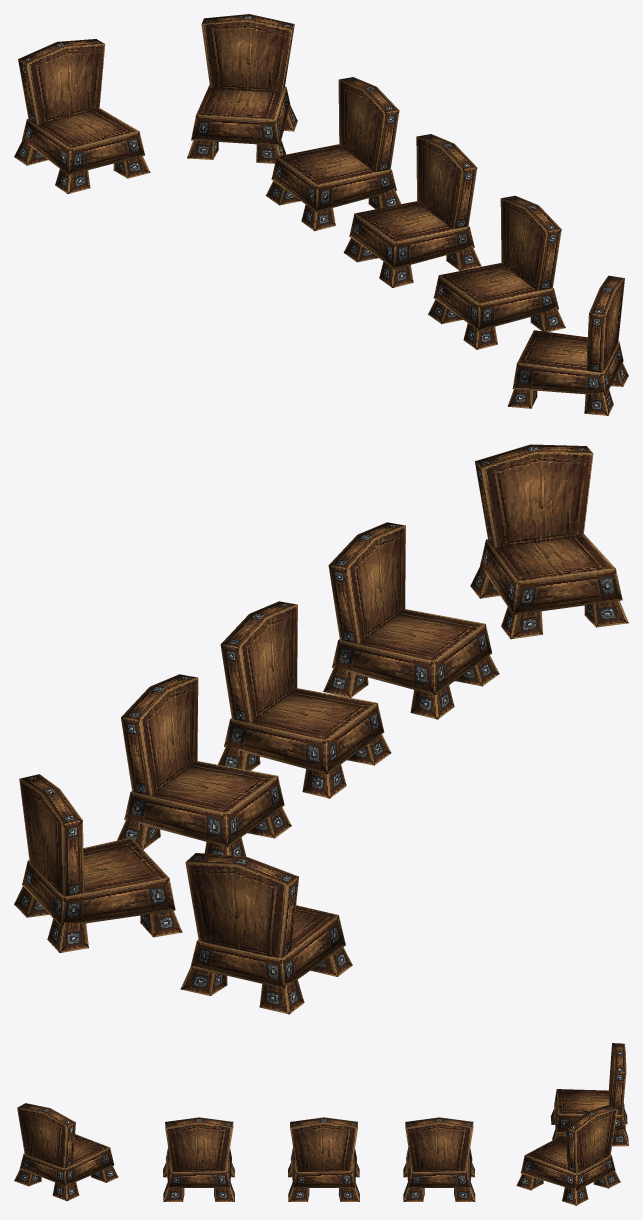
Rendered from chairs_set2.obj.
The picture shows the model from 3 angles, top to bottom: view 1: azimuth 30°, elevation 25°; view 2: azimuth 150°, elevation 25°; view 3: azimuth 270°, elevation 25°; orthographic projection. The views are drawn at different scales.
Parts seen in each view (by area): view 1: chairs_set2:chairs_set2; view 2: chairs_set2:chairs_set2; view 3: chairs_set2:chairs_set2.
Part boxes in pixels (bbox=[...]): chairs_set2:chairs_set2: bbox=[14, 14, 628, 415]; chairs_set2:chairs_set2: bbox=[14, 444, 628, 1014]; chairs_set2:chairs_set2: bbox=[14, 1043, 628, 1205].
Bounding box in the file's own units: 1.48 × 0.6007 × 4.26.
Materials: 6 (6 with a texture image).
